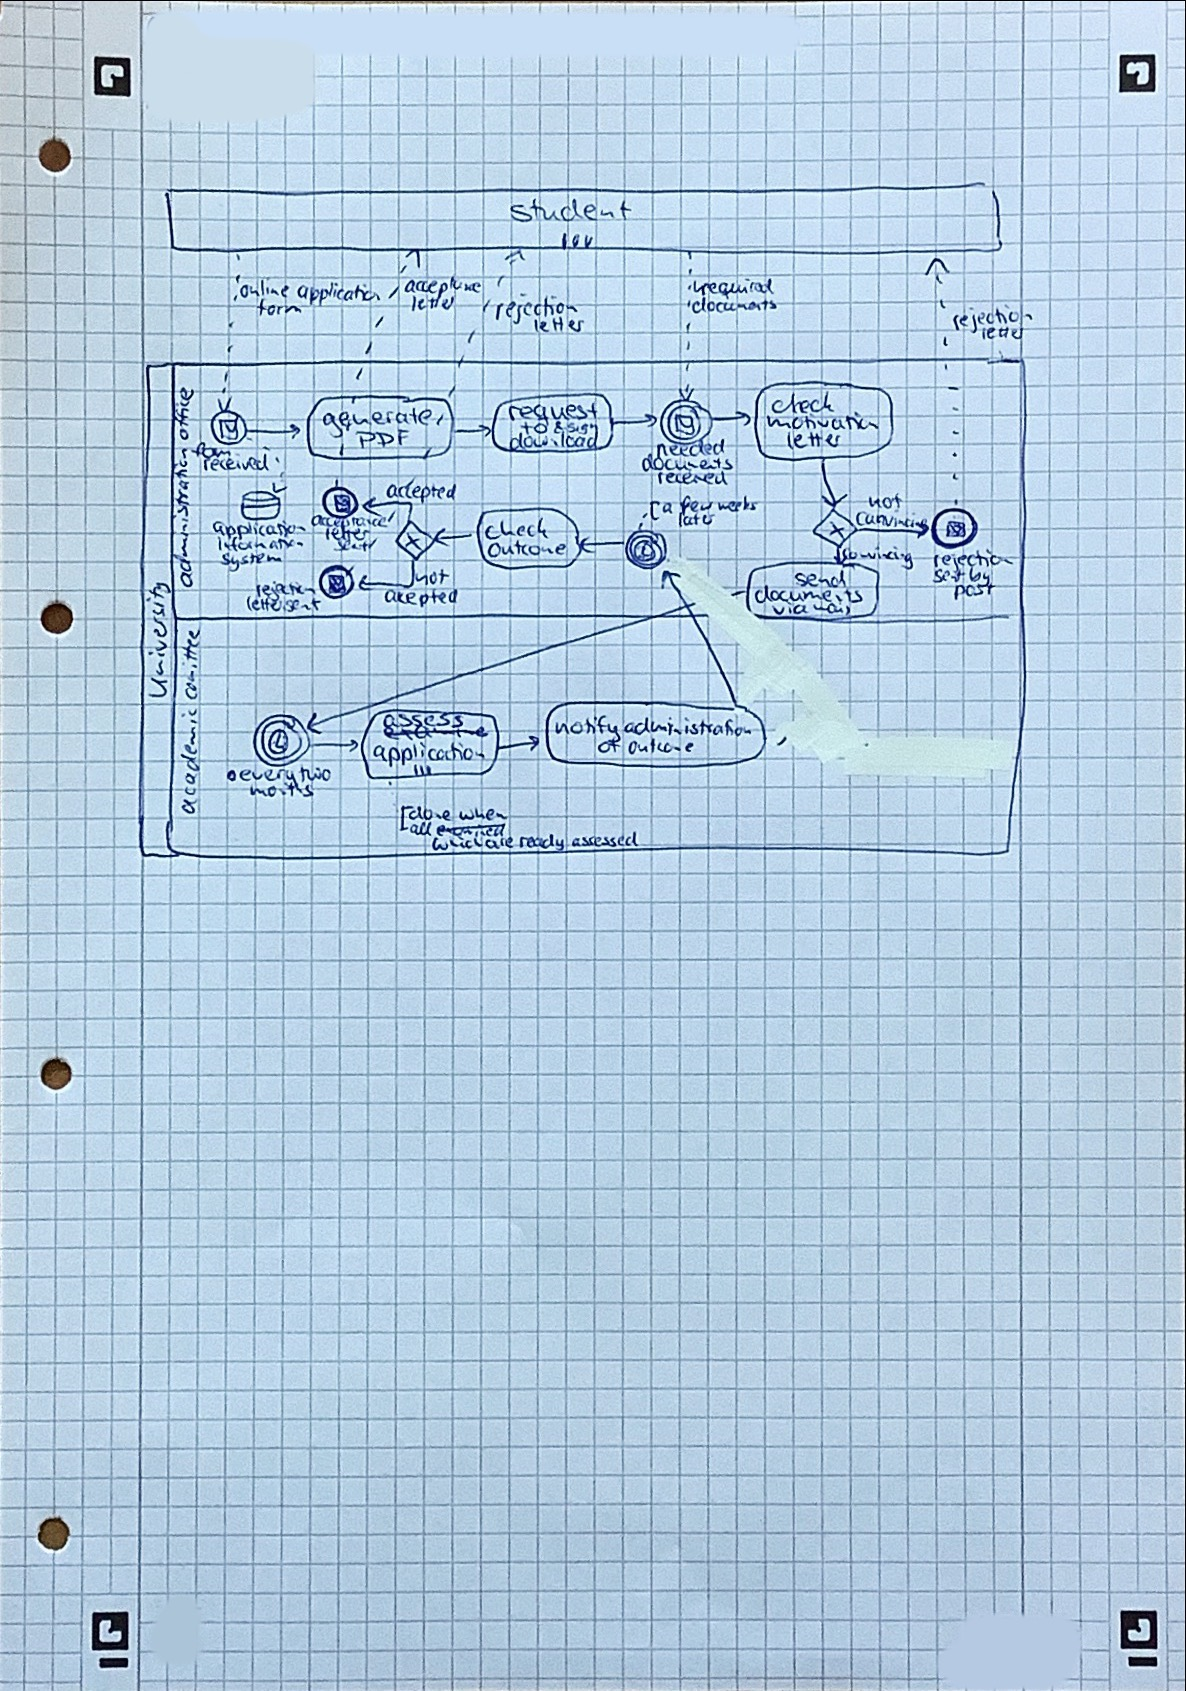&: (552, 416, 563, 433)
Convincing: (854, 509, 937, 539)
III: (554, 230, 592, 250), (410, 762, 429, 779)
Information: (211, 528, 305, 552)
Outcome: (489, 536, 567, 561), (626, 737, 703, 758)
PDF: (360, 426, 412, 447)
University: (145, 582, 171, 691)
[a: (658, 497, 675, 516)
[done: (397, 804, 459, 823)
academic: (177, 705, 202, 811)
acceptance: (405, 272, 484, 302), (308, 512, 386, 529)
accepted: (388, 482, 459, 503), (385, 587, 458, 607)
administration: (623, 716, 752, 741), (173, 443, 196, 583)
all: (399, 817, 433, 840)
application: (375, 743, 491, 766), (295, 279, 381, 304), (214, 513, 304, 537)
are: (489, 832, 514, 851)
assess: (383, 713, 472, 728)
assessed: (571, 831, 639, 852)
by: (971, 565, 995, 587)
check: (487, 519, 556, 542), (772, 393, 837, 417)
comittee: (177, 618, 203, 702)
convincing: (839, 548, 920, 572)
documents: (642, 454, 734, 475), (752, 586, 867, 602), (690, 297, 779, 313)
download: (507, 432, 599, 451)
every: (239, 767, 293, 786)
few: (678, 496, 711, 514)
form: (254, 300, 309, 320), (187, 444, 237, 461)
generate: (324, 406, 429, 434)
later: (672, 511, 717, 530)
letter: (526, 314, 587, 337), (782, 430, 847, 449), (405, 293, 457, 312), (978, 324, 1023, 343), (320, 523, 368, 541), (243, 595, 280, 615)
mail: (811, 598, 855, 618)
months: (249, 782, 319, 800)
motivation: (767, 410, 883, 435)
needed: (658, 441, 729, 461)
not: (856, 494, 901, 514), (419, 568, 449, 587)
notify: (556, 716, 619, 739)
of: (598, 737, 623, 758)
office: (173, 388, 198, 440)
online: (236, 279, 292, 304)
post: (954, 580, 993, 602)
ready: (516, 832, 569, 852)
received: (200, 452, 268, 476), (653, 472, 732, 489)
rejection: (489, 295, 579, 325), (947, 306, 1035, 334), (930, 551, 1014, 574), (250, 580, 323, 600)
request: (508, 404, 598, 423)
required: (691, 273, 777, 297)
send: (795, 573, 852, 592)
sent: (330, 537, 377, 556), (282, 596, 322, 616)
set: (931, 564, 969, 585)
sign: (566, 417, 598, 433)
student: (516, 198, 631, 226)
system: (220, 550, 289, 569)
to: (519, 417, 547, 433)
two: (296, 767, 333, 786)
via: (766, 600, 805, 617)
weeks: (713, 496, 758, 516)
when: (464, 805, 506, 824)
which: (429, 833, 480, 852)
